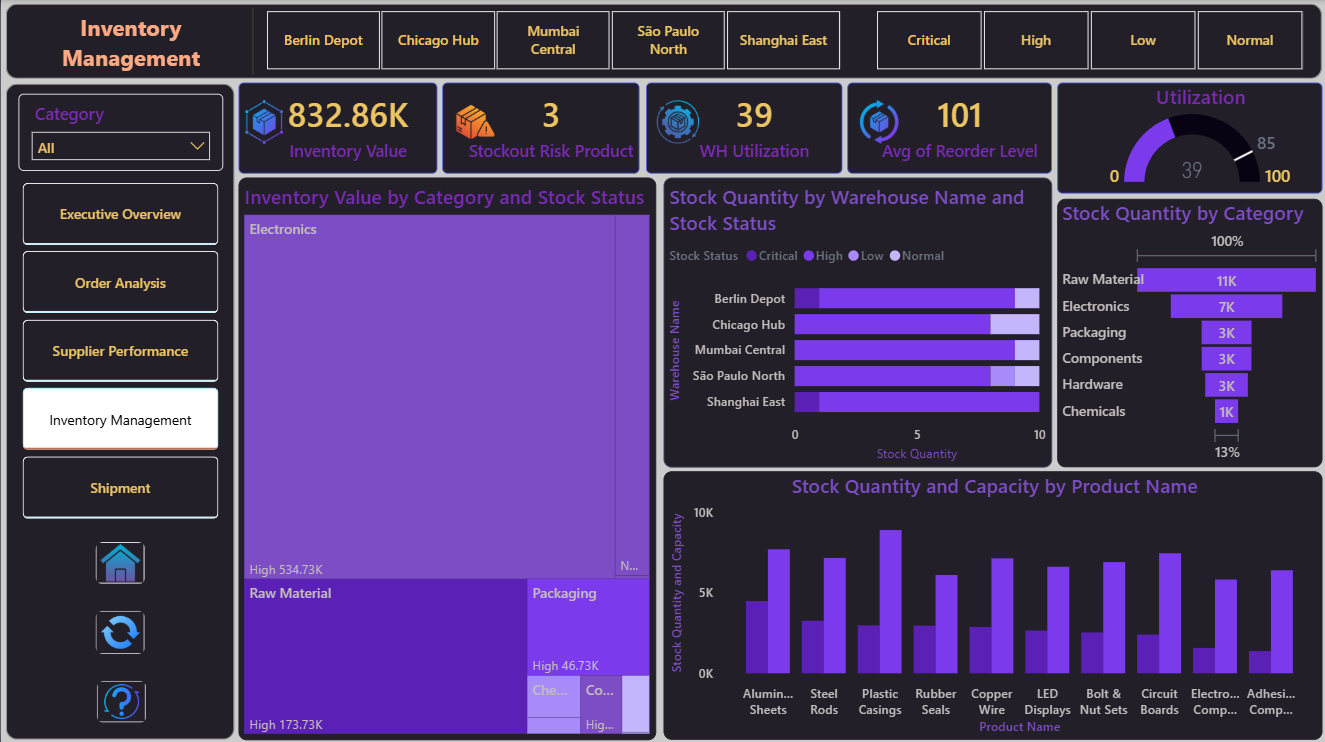

The page's visual inventory and layout, read from the dashboard file:
{"tool":"powerbi","page":{"name":" Inventory Management","canvas":[1280,720],"ordinal":3},"visuals":[{"type":"shape","box":[0,76,230.4,638],"z":0},{"type":"shape","box":[0,3.6,1280,72.4],"z":1000},{"type":"shape","box":[235,6,15.7,66.4],"z":2000},{"type":"card","fields":{"Values":["Sum(Inventory.Inventory_Value)"]},"box":[229.2,79.6,191.8,88.1],"z":3000},{"type":"textbox","box":[45.8,0,213.5,76],"z":4000},{"type":"card","fields":{"Values":["Inventory.Stockout_Risk_Product"]},"box":[426.3,79.6,190.6,88.1],"z":5000},{"type":"card","fields":{"Values":["Inventory.Utilization"]},"box":[622.1,79.6,189.4,88.1],"z":6000},{"type":"card","fields":{"Values":["Avg(Inventory.Reorder_Level)"]},"box":[816.8,79.6,197.9,88.1],"z":7000},{"type":"gauge","fields":{"Y":["Inventory.Utilization"]},"box":[1019.4,79.6,255.8,107.4],"z":8000},{"type":"treemap","fields":{"Group":["Inventory.Category"],"Values":["Sum(Inventory.Inventory_Value)"],"Details":["Inventory.Stock_Status"]},"box":[229.2,171.3,403,542.9],"z":9000},{"type":"barChart","fields":{"Category":["Inventory.Warehouse_Name"],"Y":["CountNonNull(Inventory.Stock_Quantity)"],"Series":["Inventory.Stock_Status"]},"box":[639.4,171.3,375.2,279.9],"z":10000},{"type":"clusteredColumnChart","fields":{"Category":["Inventory.Product_Name"],"Y":["Sum(Inventory.Stock_Quantity)","Sum(Inventory.Max_Capacity)"]},"box":[639.4,454.8,635.8,259.4],"z":11000},{"type":"slicer","fields":{"Values":["Inventory.Stock_Status"]},"box":[819.1,3.6,460.9,70],"z":12000},{"type":"slicer","fields":{"Values":["Inventory.Warehouse_Name"]},"box":[230.4,3.6,603.2,70],"z":13000},{"type":"funnel","fields":{"Category":["Inventory.Category"],"Y":["Sum(Inventory.Stock_Quantity)"]},"box":[1019.4,191.8,255.8,259.4],"z":14000},{"type":"pageNavigator","box":[16.9,172.5,197.9,336.6],"z":15000},{"type":"slicer","fields":{"Values":["Inventory.Category"]},"box":[16.9,90.5,197.9,74.8],"z":16000},{"type":"image","box":[229.2,96.5,49.5,42.2],"z":17000},{"type":"image","box":[433.1,96.5,49.5,42.2],"z":18000},{"type":"image","box":[628.6,96.5,49.5,42.2],"z":19000},{"type":"image","box":[822.8,96.5,49.5,42.2],"z":20000},{"type":"image","box":[90.5,588.7,49.5,43.4],"z":21000},{"type":"image","box":[91.7,656.3,49.5,42.2],"z":22000},{"type":"image","box":[90.5,522.4,49.5,42.2],"z":23000}]}

Visuals, with their boxes in screenshot pixels (x1, y1, x2, y2), scaled from the page's 1280x720 canvas onto the 1325x742 screenshot:
shape: 0 78 238 736
shape: 0 4 1324 78
shape: 243 6 260 75
card - Sum(Inventory.Inventory_Value): 237 82 436 173
textbox: 47 0 268 78
card - Inventory.Stockout_Risk_Product: 441 82 639 173
card - Inventory.Utilization: 644 82 840 173
card - Avg(Inventory.Reorder_Level): 846 82 1050 173
gauge - Inventory.Utilization: 1055 82 1320 193
treemap - Inventory.Category x Sum(Inventory.Inventory_Value): 237 177 654 736
barChart - Inventory.Warehouse_Name x CountNonNull(Inventory.Stock_Quantity): 662 177 1050 465
clusteredColumnChart - Inventory.Product_Name x Sum(Inventory.Stock_Quantity): 662 469 1320 736
slicer - Inventory.Stock_Status: 848 4 1324 76
slicer - Inventory.Warehouse_Name: 238 4 863 76
funnel - Inventory.Category x Sum(Inventory.Stock_Quantity): 1055 198 1320 465
pageNavigator: 17 178 222 525
slicer - Inventory.Category: 17 93 222 170
image: 237 99 288 143
image: 448 99 500 143
image: 651 99 702 143
image: 852 99 903 143
image: 94 607 145 651
image: 95 676 146 720
image: 94 538 145 582
